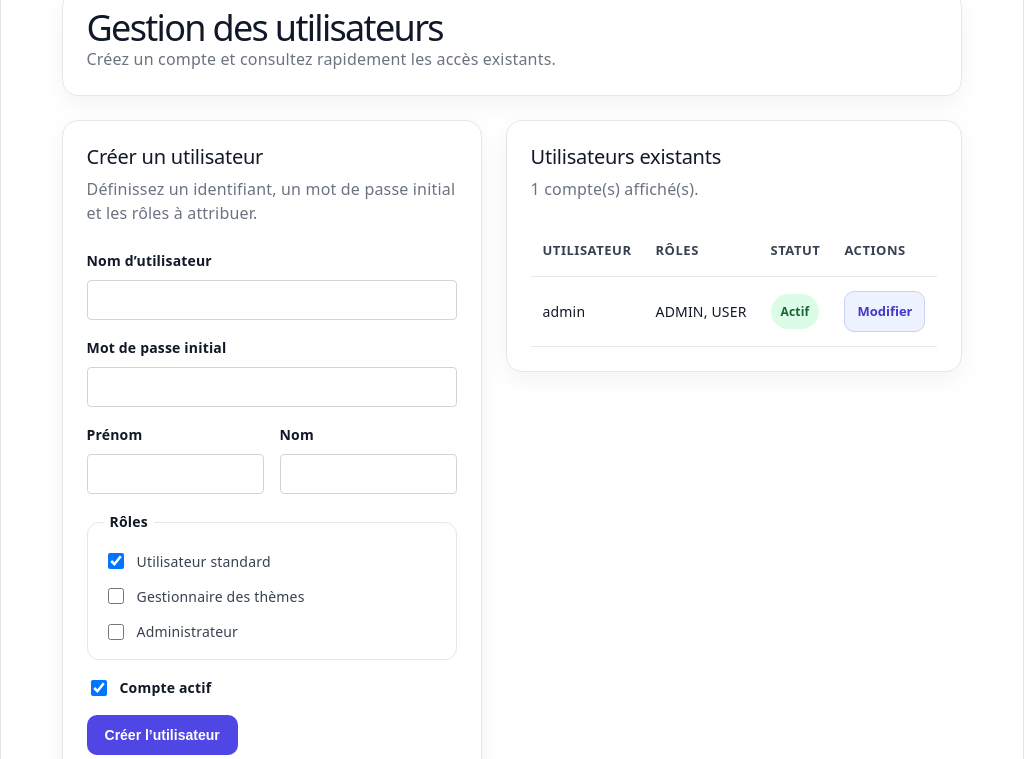
Scenario: UserAdminPage › opens an edit panel for the selected user
This screenshot has width=1024, height=759.
Expected: the cell "admin" is shown, top-left (530, 276), bottom-right (644, 347)
What coordinates should you click on to do the following:
click the button named "Modifier admin"
I would click on:
 (885, 312)
Its box is top-left (844, 291), bottom-right (926, 332).
(page scrolled)
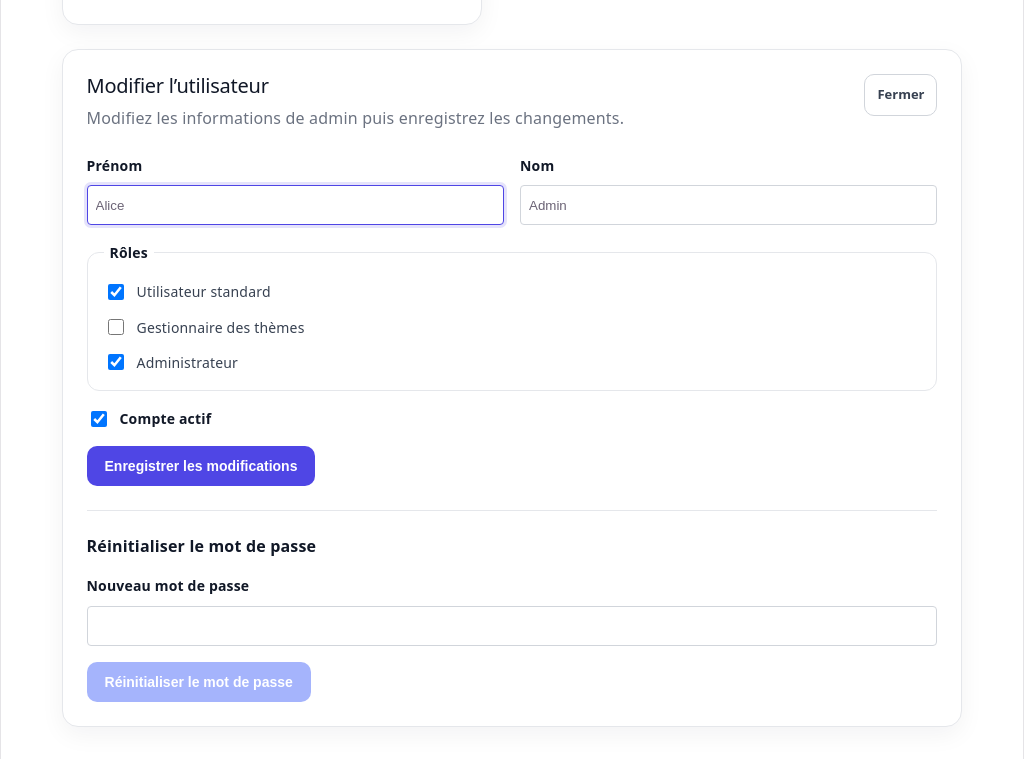
Expected: the field labelled "Prénom" holds "Alice", top-left (86, 185), bottom-right (504, 225)
Expected: the field labelled "Nom" holds "Admin", top-left (520, 185), bottom-right (938, 225)
Expected: the checkbox labelled "Administrateur" is checked, top-left (108, 354), bottom-right (124, 370)
